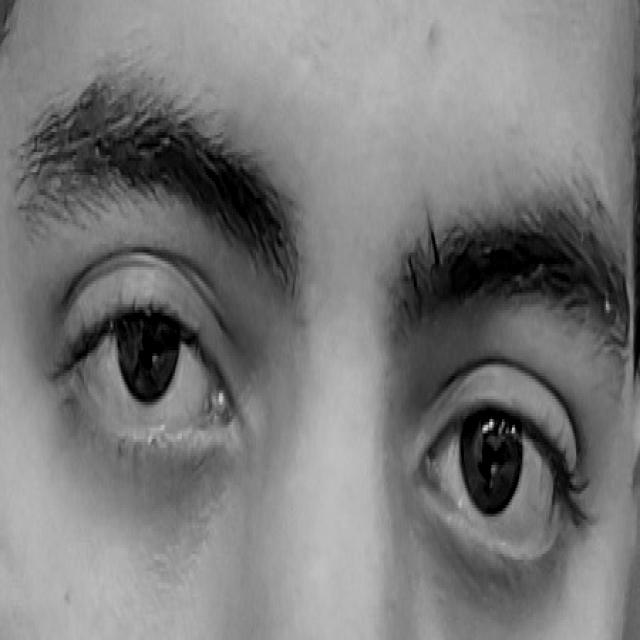real: (36, 158, 613, 622)
